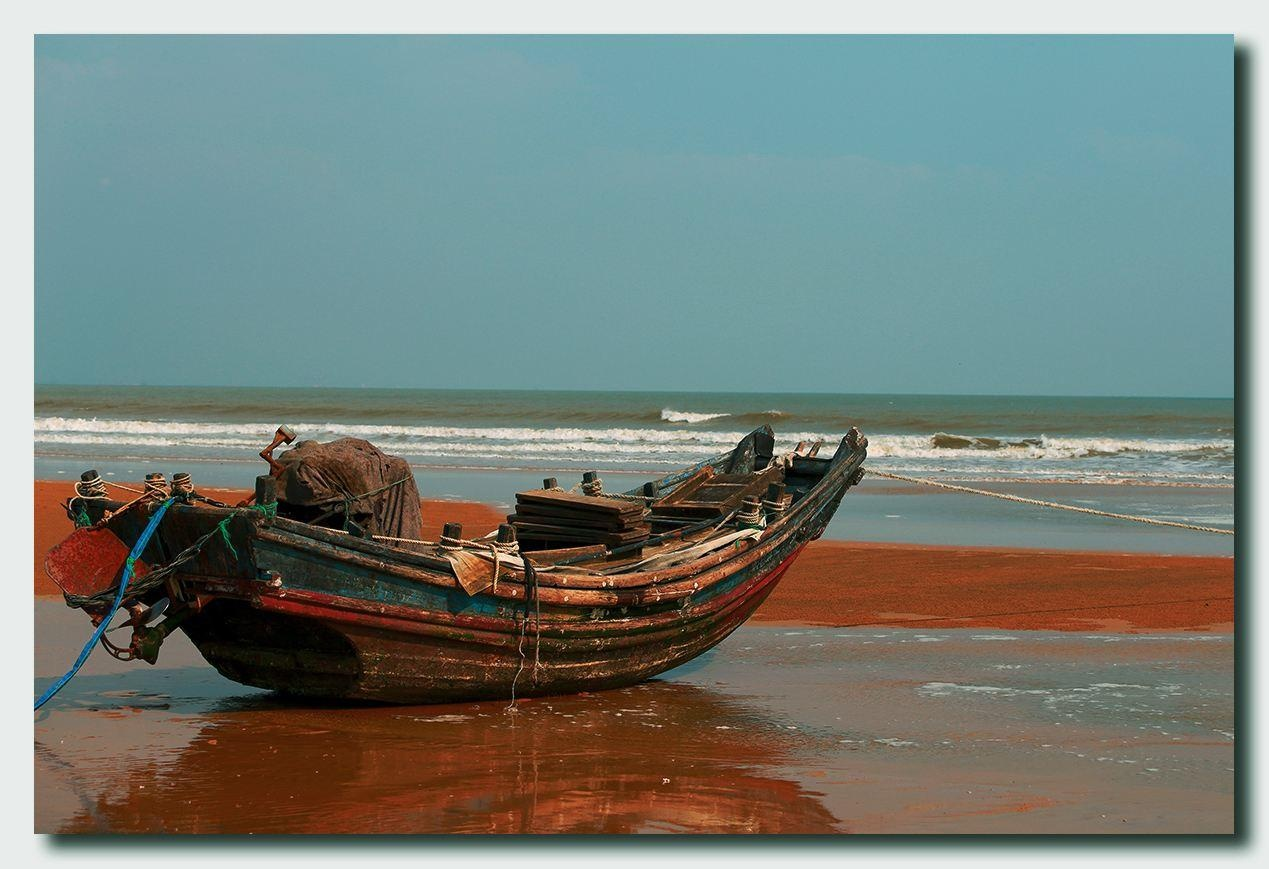otherboat: (66, 385, 885, 701)
